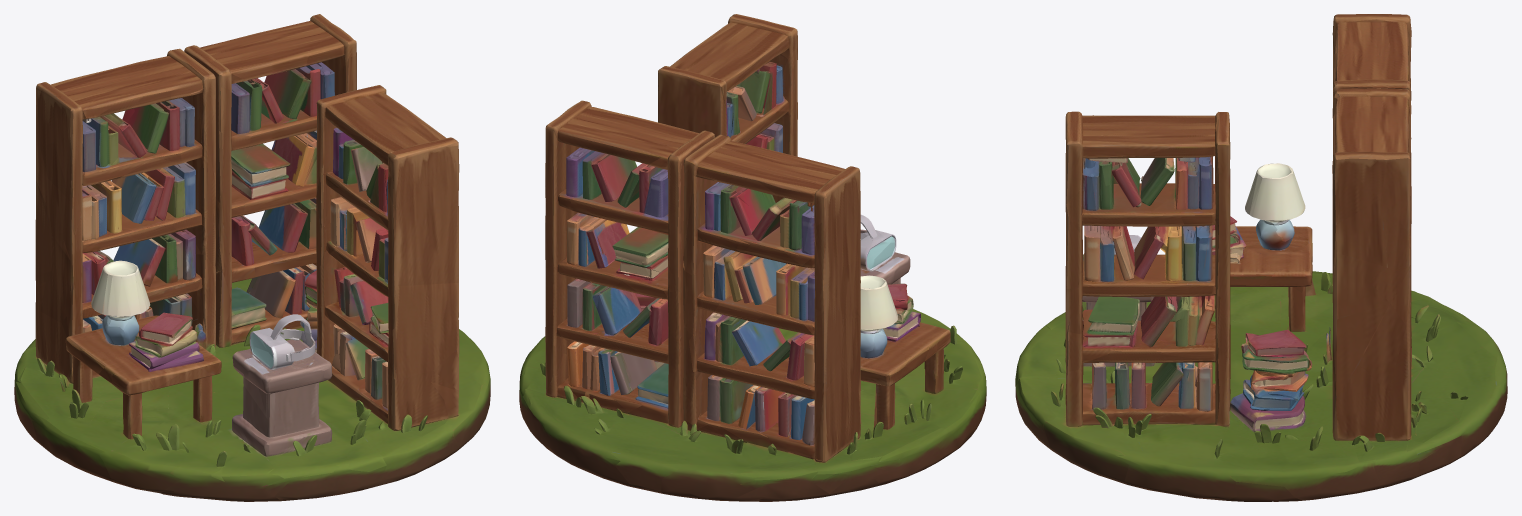
Rendered from library.glb.
3 renders of one model, left to right at view 1: azimuth 30°, elevation 25°; view 2: azimuth 150°, elevation 25°; view 3: azimuth 270°, elevation 25°, orthographic. The views are drawn at different scales.
Size of the model in its own units: 1.9 by 1.35 by 1.9.
1 material, 1 textured.
